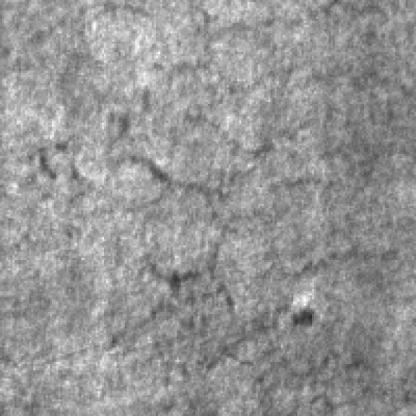crazing: (25, 45, 327, 218), (102, 241, 368, 395)
